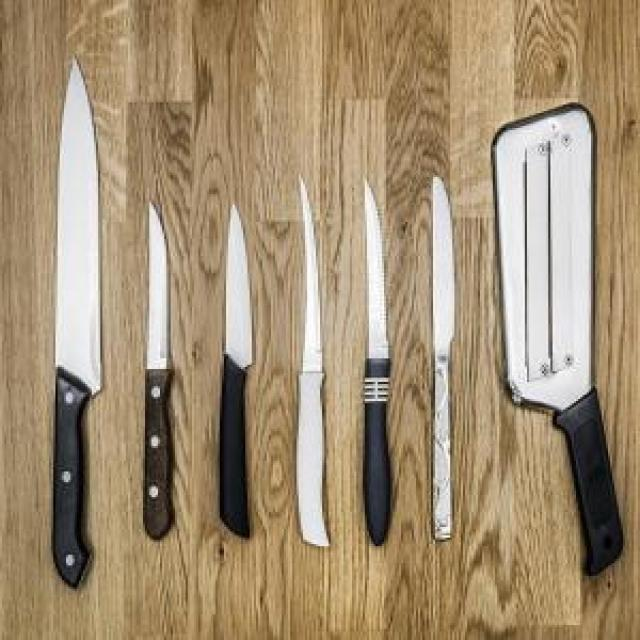knife: (495, 107, 624, 577), (47, 58, 103, 584), (292, 173, 335, 550), (358, 179, 397, 546), (143, 203, 176, 542), (428, 170, 458, 538), (224, 203, 255, 542)
